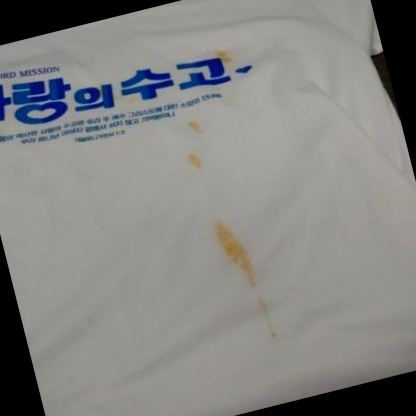kimchi: (210, 213, 262, 284), (259, 296, 280, 348), (188, 116, 206, 136), (216, 48, 234, 64), (250, 270, 263, 289), (184, 154, 199, 170), (125, 92, 135, 104), (112, 84, 121, 93), (115, 97, 120, 104)
